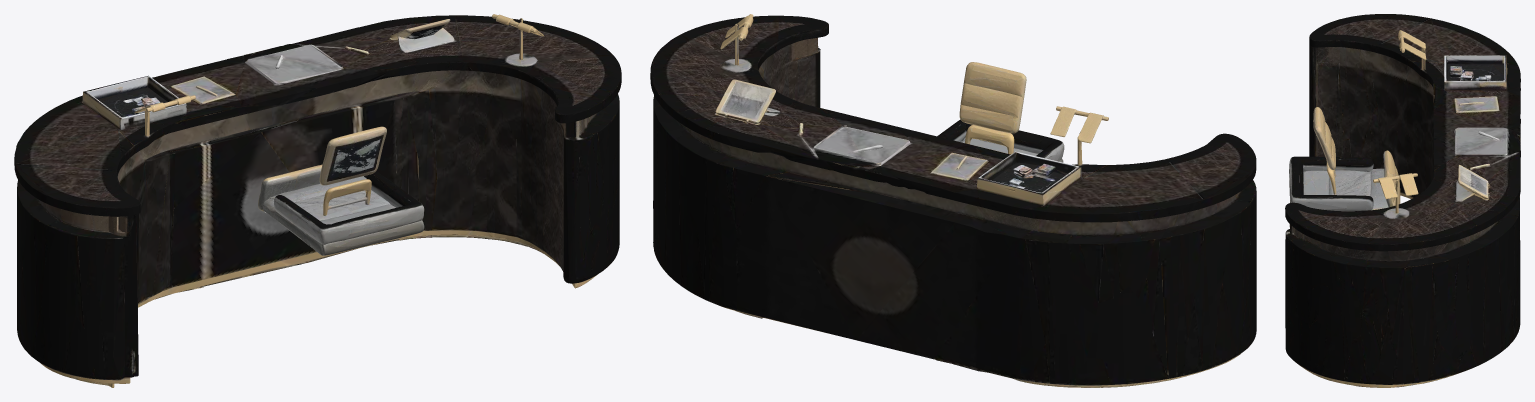
Rendered from vestConsole.glb.
The picture shows the model from 3 angles, left to right: view 1: azimuth 30°, elevation 25°; view 2: azimuth 150°, elevation 25°; view 3: azimuth 270°, elevation 25°; orthographic projection. The views are drawn at different scales.
Bounding box in the file's own units: 1.9 × 0.7211 × 0.8219.
1 material, 1 textured.
